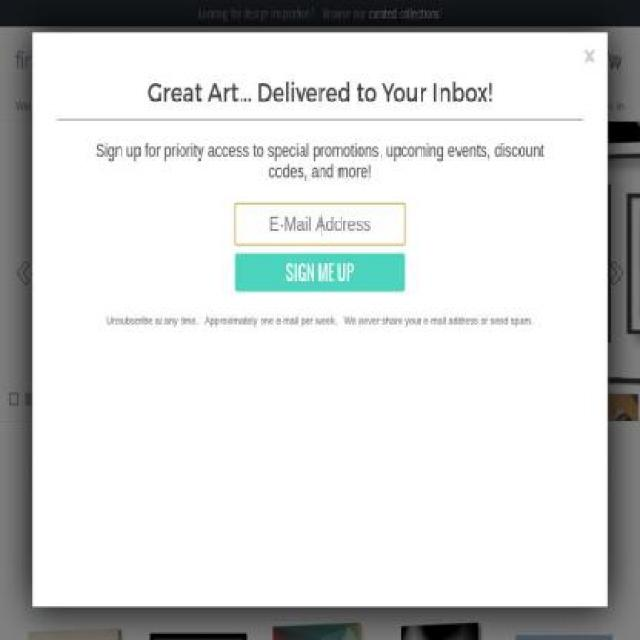button: (0, 121, 640, 422), (288, 458, 367, 492), (541, 458, 610, 492), (217, 458, 283, 492), (59, 93, 132, 122), (92, 458, 154, 492), (372, 458, 430, 492), (482, 93, 549, 122), (30, 458, 87, 492), (80, 272, 143, 302), (333, 93, 398, 122), (435, 458, 490, 492), (221, 93, 282, 122), (160, 458, 212, 492), (131, 93, 184, 122), (281, 93, 334, 122), (495, 458, 536, 492), (15, 93, 60, 122), (488, 50, 541, 72), (584, 93, 624, 122), (183, 93, 222, 122), (549, 93, 585, 122), (445, 50, 486, 72), (542, 50, 580, 72), (43, 318, 95, 325), (136, 318, 181, 325), (96, 318, 136, 325), (407, 53, 424, 69), (606, 54, 625, 64)
field: (160, 46, 408, 76)
